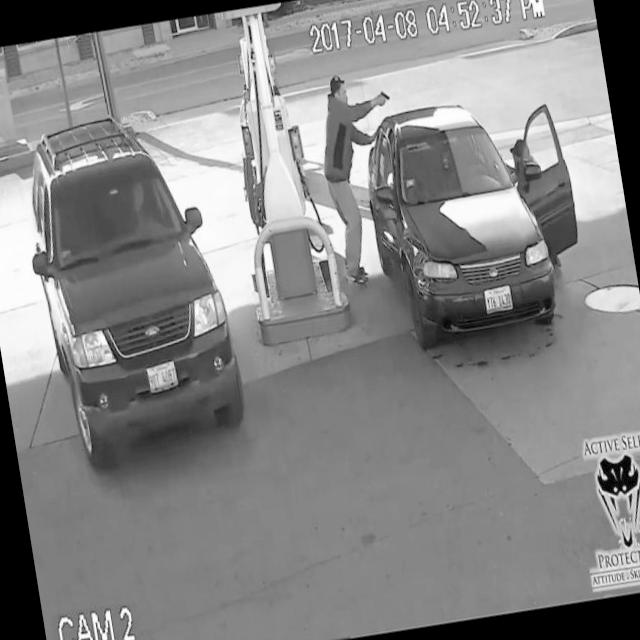gun: (372, 88, 394, 110)
person with a gun: (305, 64, 416, 290)
